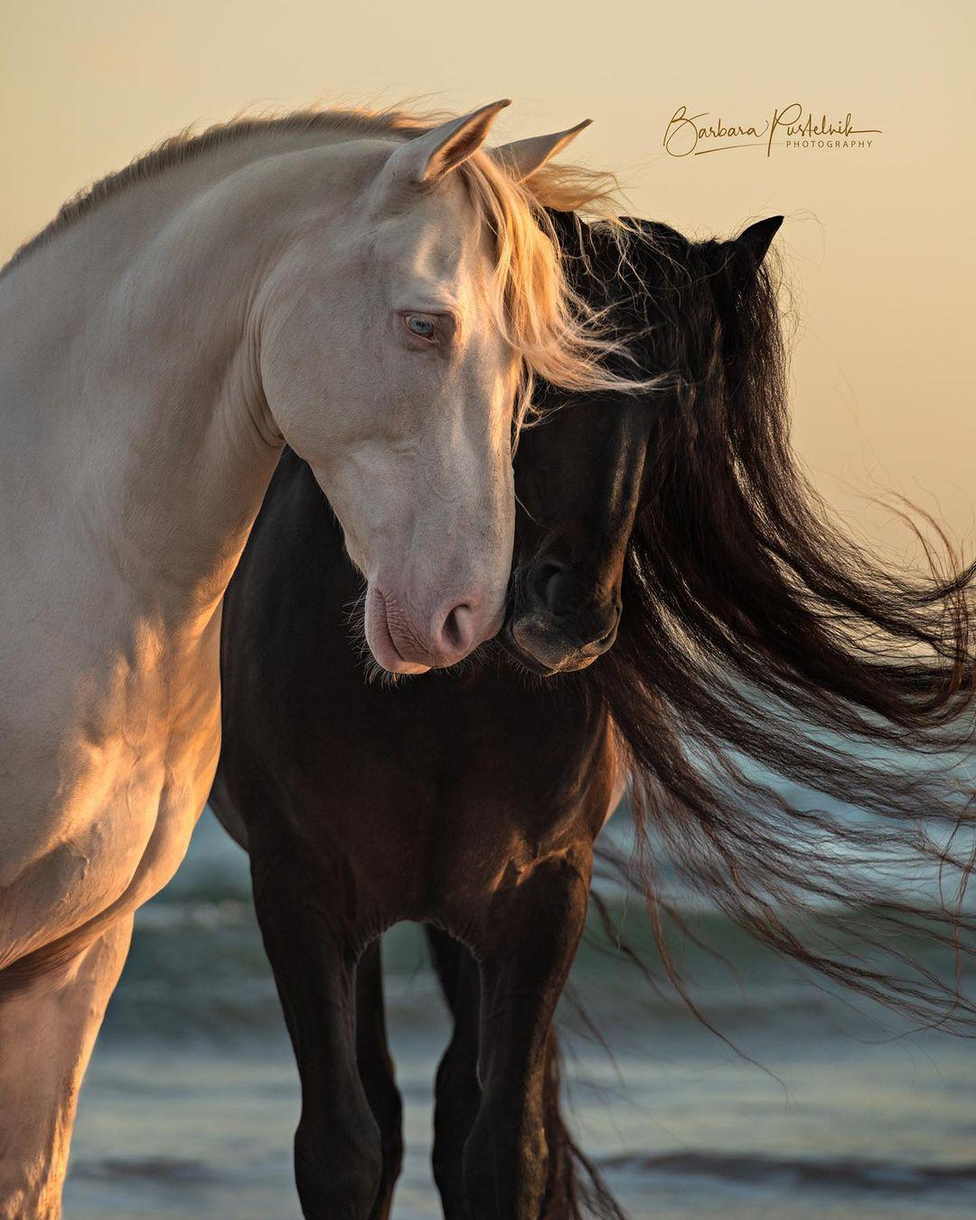horse: (204, 209, 974, 1218), (0, 94, 662, 1218)
